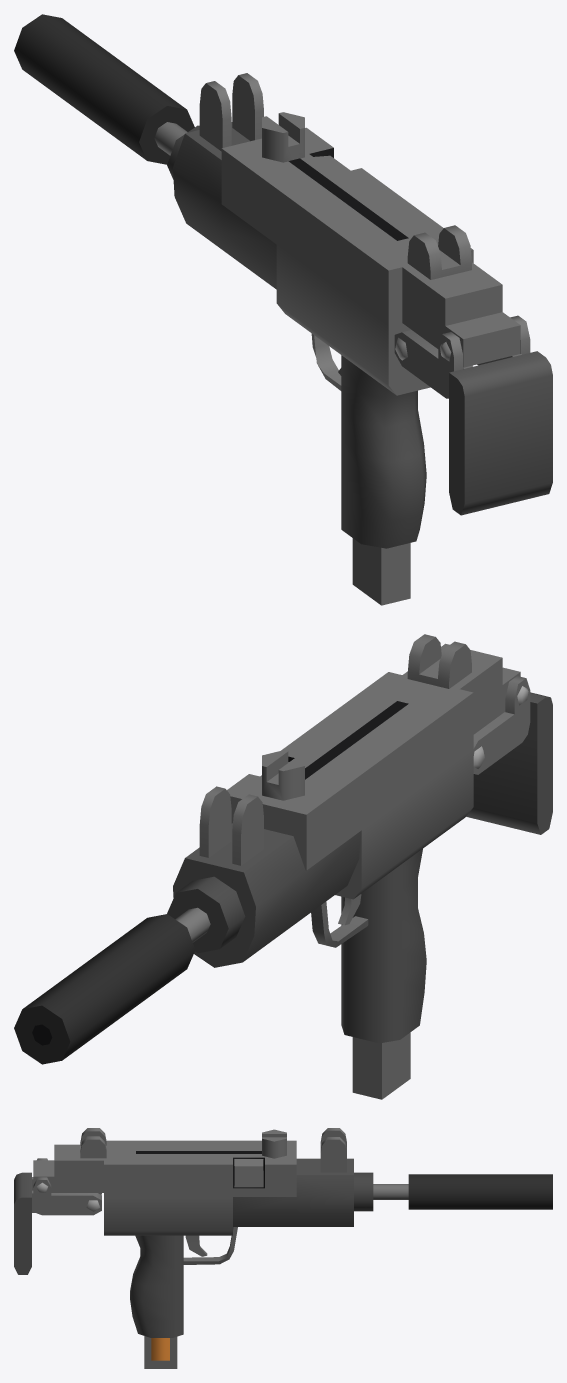
File: Uzi.fbx
The picture shows the model from 3 angles, top to bottom: view 1: azimuth 30°, elevation 25°; view 2: azimuth 150°, elevation 25°; view 3: azimuth 270°, elevation 25°; orthographic projection. The views are drawn at different scales.
Parts seen in each view (by area): view 1: Uzi, UziSupressor, UziMagazine; view 2: Uzi, UziSupressor, UziMagazine; view 3: Uzi, UziSupressor, UziMagazine.
Boxes of the visible parts, x1,y1,x2,y2 form: Uzi: (154,73,552,548); UziSupressor: (14,14,194,164); UziMagazine: (352,538,410,605); Uzi: (167,634,552,1043); UziSupressor: (14,914,195,1064); UziMagazine: (352,1032,410,1099); Uzi: (14,1128,408,1337); UziSupressor: (408,1174,552,1209); UziMagazine: (144,1336,177,1368).
Size of the model in its own units: 0.0764 by 0.3305 by 0.6989.
